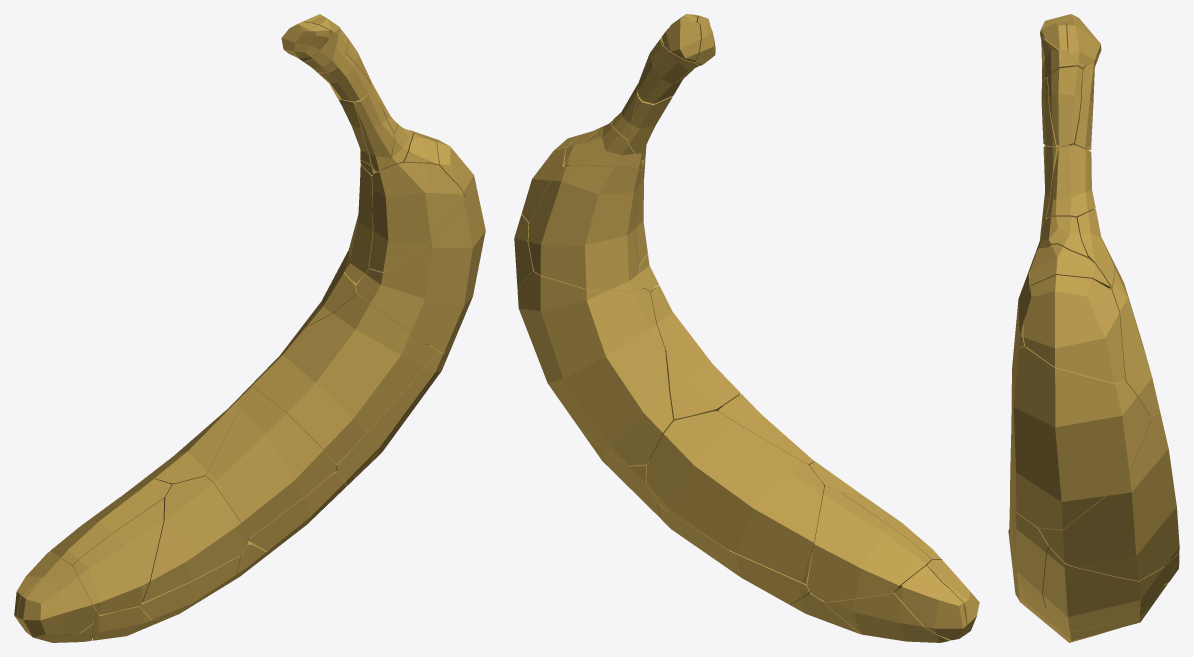
Rendered from Banana.fbx.
3 views of the same model, side by side, from view 1: azimuth 30°, elevation 25°; view 2: azimuth 150°, elevation 25°; view 3: azimuth 270°, elevation 25° (orthographic). The views are drawn at different scales.
Parts seen in each view (by area): view 1: Banana_cell.033, Banana_cell.012, Banana_cell.019, Banana_cell.014, Banana_cell.004, Banana_cell.017, Banana_cell.026, Banana_cell.009, Banana_cell.007, Banana_cell.002, Banana_cell.020, Banana_cell.023 (+13 smaller); view 2: Banana_cell.034, Banana_cell.002, Banana_cell.015, Banana_cell.009, Banana_cell.033, Banana_cell.022, Banana_cell.018, Banana_cell.030, Banana_cell.027, Banana_cell.016, Banana_cell.012, Banana_cell.013 (+10 smaller); view 3: Banana_cell.019, Banana_cell.034, Banana_cell.025, Banana_cell.013, Banana_cell.005, Banana_cell.015, Banana_cell.007, Banana_cell.021, Banana_cell.003, Banana_cell.016, Banana_cell.024, Banana_cell.027 (+8 smaller).
Part boxes in pixels (left/top/right/bottom): Banana_cell.033: left=252, top=294, right=437, bottom=464; Banana_cell.012: left=206, top=387, right=336, bottom=538; Banana_cell.019: left=356, top=189, right=485, bottom=352; Banana_cell.014: left=142, top=476, right=248, bottom=602; Banana_cell.004: left=369, top=162, right=465, bottom=271; Banana_cell.017: left=73, top=498, right=163, bottom=614; Banana_cell.026: left=17, top=559, right=98, bottom=641; Banana_cell.009: left=49, top=479, right=171, bottom=574; Banana_cell.007: left=334, top=344, right=446, bottom=485; Banana_cell.002: left=122, top=374, right=262, bottom=495; Banana_cell.020: left=248, top=471, right=345, bottom=551; Banana_cell.023: left=140, top=556, right=240, bottom=619; Banana_cell.034: left=517, top=271, right=673, bottom=465; Banana_cell.002: left=646, top=411, right=823, bottom=584; Banana_cell.015: left=528, top=166, right=643, bottom=291; Banana_cell.009: left=807, top=486, right=930, bottom=601; Banana_cell.033: left=650, top=285, right=740, bottom=423; Banana_cell.022: left=825, top=592, right=950, bottom=642; Banana_cell.018: left=658, top=503, right=812, bottom=604; Banana_cell.030: left=895, top=565, right=966, bottom=640; Banana_cell.027: left=637, top=46, right=698, bottom=103; Banana_cell.016: left=565, top=124, right=642, bottom=170; Banana_cell.012: left=717, top=394, right=814, bottom=464; Banana_cell.013: left=579, top=428, right=660, bottom=517; Banana_cell.019: left=1010, top=347, right=1150, bottom=529; Banana_cell.034: left=1038, top=410, right=1179, bottom=580; Banana_cell.025: left=1023, top=275, right=1125, bottom=383; Banana_cell.013: left=1043, top=547, right=1179, bottom=631; Banana_cell.005: left=1046, top=144, right=1095, bottom=218; Banana_cell.015: left=1106, top=247, right=1159, bottom=416; Banana_cell.007: left=1013, top=507, right=1049, bottom=608; Banana_cell.021: left=1048, top=66, right=1082, bottom=145; Banana_cell.003: left=1029, top=244, right=1110, bottom=288; Banana_cell.016: left=1076, top=209, right=1113, bottom=285; Banana_cell.024: left=1036, top=216, right=1087, bottom=257; Banana_cell.027: left=1069, top=55, right=1099, bottom=149.
Bounding box in the file's own units: 118 × 140 × 30.95.
